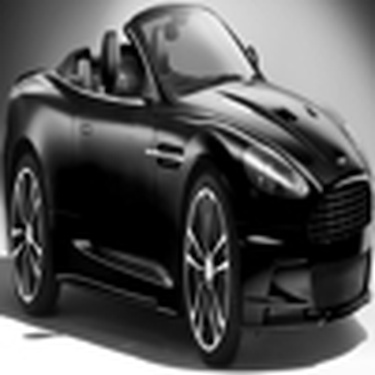car: (4, 5, 368, 372)
